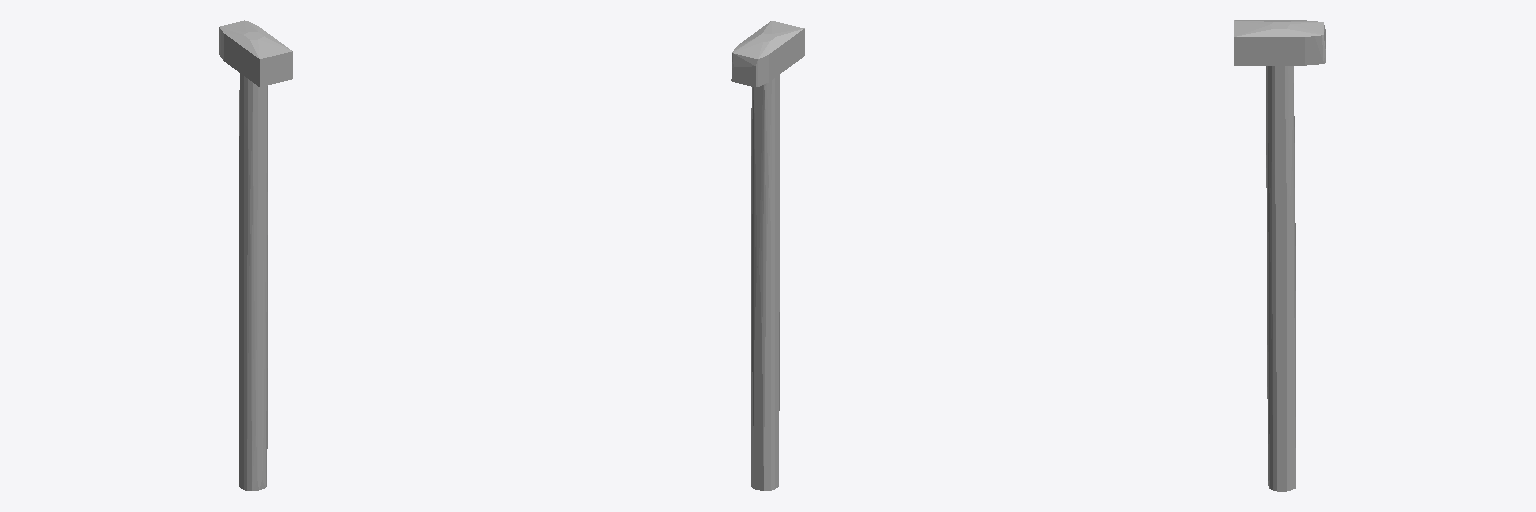
The robot description file, URDF, robot "root":
<robot name="root">
  <link name="link_25f6f2002f9287ff6c142f9dd7073357_convex_piece_0">
    <inertial>
      <origin rpy="0 0 0" xyz="0 0 0"/>
      <mass value="3.15E-05"/>
      <inertia ixx="1.27E-07" ixy="1.93E-12" ixz="-1.20E-10" iyy="1.27E-07" iyz="-1.24E-09" izz="8.93E-10"/>
    </inertial>
    <visual>
      <origin rpy="0 0 0" xyz="0 0 0"/>
      <geometry>
        <mesh filename="25f6f2002f9287ff6c142f9dd7073357_convex_piece_0.obj" scale="1.0000E+00"/>
      </geometry>
      <material name="">
        <color rgba="7.50E-01 7.50E-01 7.50E-01 1"/>
      </material>
    </visual>
    <collision>
      <origin rpy="0 0 0" xyz="0 0 0"/>
      <geometry>
        <mesh filename="25f6f2002f9287ff6c142f9dd7073357_convex_piece_0.obj" scale="1.0000E+00"/>
      </geometry>
    </collision>
  </link>
  <link name="link_25f6f2002f9287ff6c142f9dd7073357_convex_piece_1">
    <inertial>
      <origin rpy="0 0 0" xyz="0 0 0"/>
      <mass value="1.19E-05"/>
      <inertia ixx="1.62E-07" ixy="-5.24E-12" ixz="1.14E-10" iyy="1.61E-07" iyz="-6.18E-10" izz="2.35E-09"/>
    </inertial>
    <visual>
      <origin rpy="0 0 0" xyz="0 0 0"/>
      <geometry>
        <mesh filename="25f6f2002f9287ff6c142f9dd7073357_convex_piece_1.obj" scale="1.0000E+00"/>
      </geometry>
      <material name="">
        <color rgba="7.50E-01 7.50E-01 7.50E-01 1"/>
      </material>
    </visual>
    <collision>
      <origin rpy="0 0 0" xyz="0 0 0"/>
      <geometry>
        <mesh filename="25f6f2002f9287ff6c142f9dd7073357_convex_piece_1.obj" scale="1.0000E+00"/>
      </geometry>
    </collision>
  </link>
  <joint name="link_25f6f2002f9287ff6c142f9dd7073357_convex_piece_1_joint" type="fixed">
    <origin rpy="0 0 0" xyz="0 0 0"/>
    <parent link="link_25f6f2002f9287ff6c142f9dd7073357_convex_piece_0"/>
    <child link="link_25f6f2002f9287ff6c142f9dd7073357_convex_piece_1"/>
  </joint>
</robot>

--- Render facts (derived) ---
Views: 3 orthographic renders of the robot side by side, from view 1: azimuth 30°, elevation 25°; view 2: azimuth 150°, elevation 25°; view 3: azimuth 270°, elevation 25°.
Model root with 2 links and 1 joints (1 fixed), rooted at link_25f6f2002f9287ff6c142f9dd7073357_convex_piece_0, posed all joints at 0.
Visible links, largest first — view 1: link_25f6f2002f9287ff6c142f9dd7073357_convex_piece_0, link_25f6f2002f9287ff6c142f9dd7073357_convex_piece_1; view 2: link_25f6f2002f9287ff6c142f9dd7073357_convex_piece_0, link_25f6f2002f9287ff6c142f9dd7073357_convex_piece_1; view 3: link_25f6f2002f9287ff6c142f9dd7073357_convex_piece_0, link_25f6f2002f9287ff6c142f9dd7073357_convex_piece_1.
Link boxes in pixels (x1=…): link_25f6f2002f9287ff6c142f9dd7073357_convex_piece_0: x1=239, y1=73, x2=267, y2=490; link_25f6f2002f9287ff6c142f9dd7073357_convex_piece_1: x1=219, y1=20, x2=292, y2=86; link_25f6f2002f9287ff6c142f9dd7073357_convex_piece_0: x1=751, y1=75, x2=779, y2=490; link_25f6f2002f9287ff6c142f9dd7073357_convex_piece_1: x1=731, y1=21, x2=804, y2=87; link_25f6f2002f9287ff6c142f9dd7073357_convex_piece_0: x1=1266, y1=66, x2=1295, y2=491; link_25f6f2002f9287ff6c142f9dd7073357_convex_piece_1: x1=1234, y1=20, x2=1325, y2=65.
Bounding box of the posed robot: 0.0199 × 0.0464 × 0.2584 m (x, y, z).
2 mesh visuals loaded from 2 distinct referenced files (2 OBJ).
